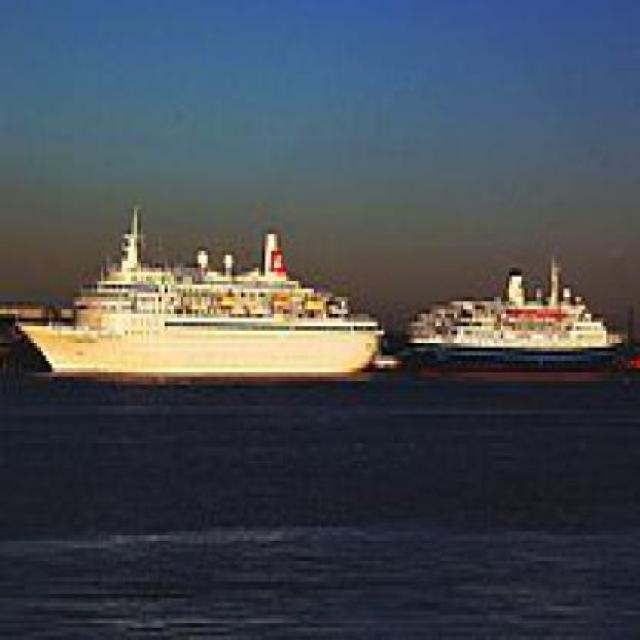cruise: (13, 215, 391, 390)
